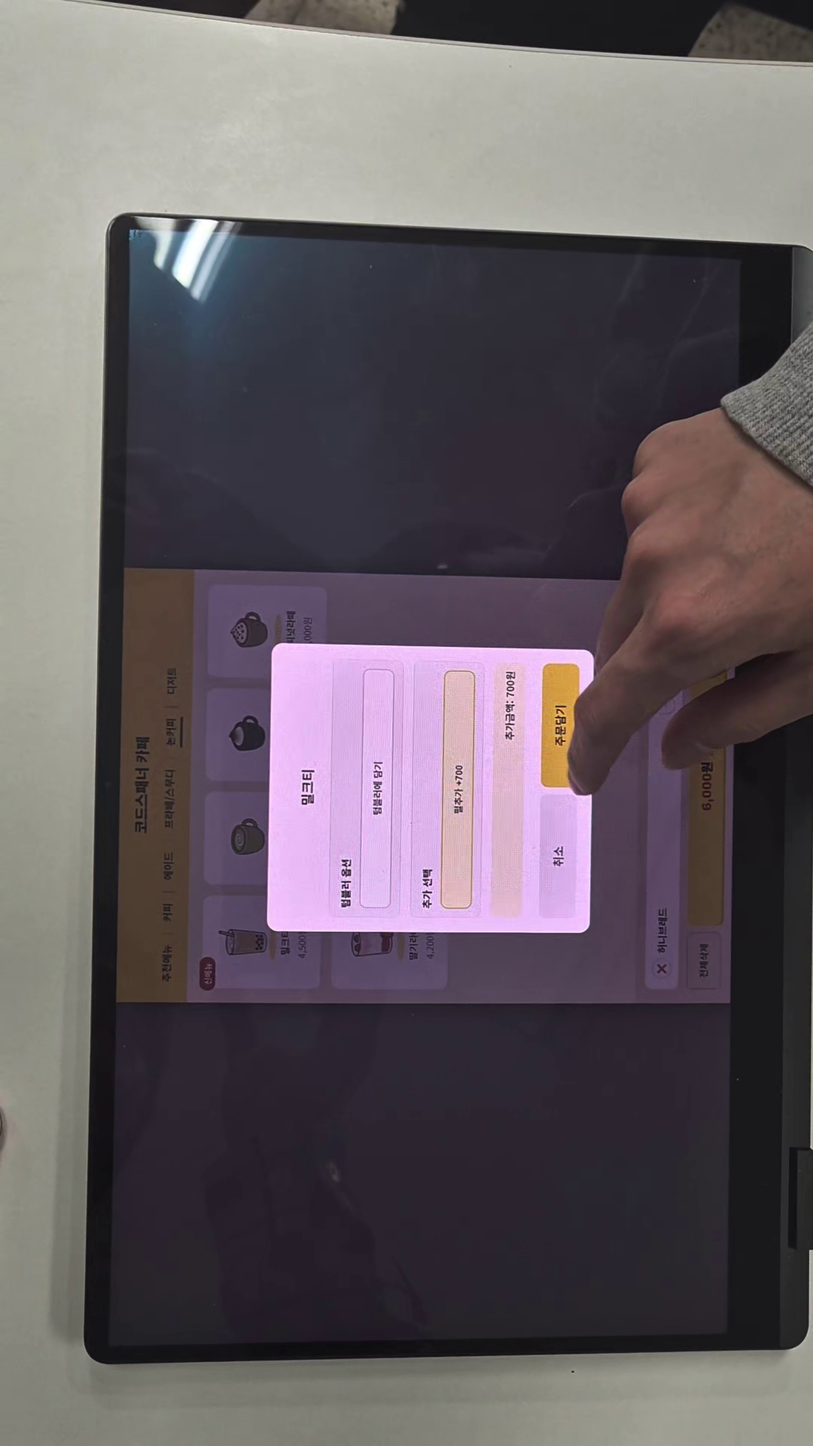action_button: (542, 793, 580, 917), (543, 664, 578, 787)
option_button: (360, 668, 394, 907), (442, 671, 474, 908)
popup_modal: (271, 643, 592, 933)
